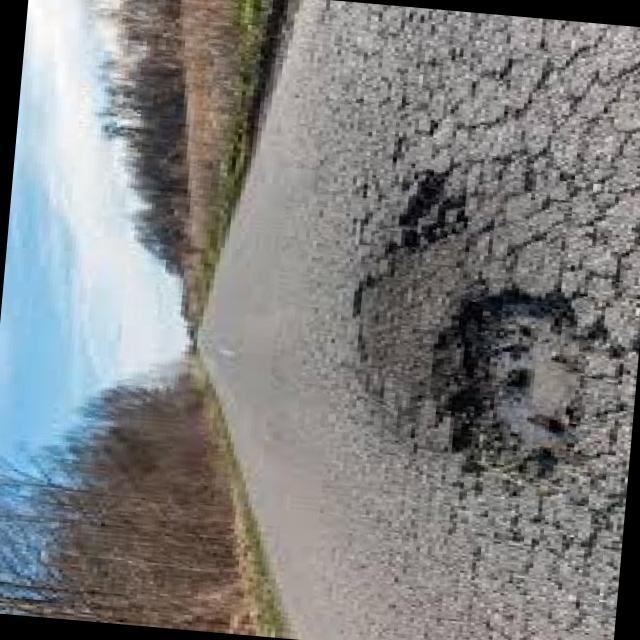pothole: (422, 272, 618, 498)
